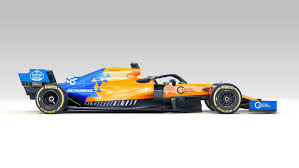FormulaOneCar: (12, 56, 283, 122)
